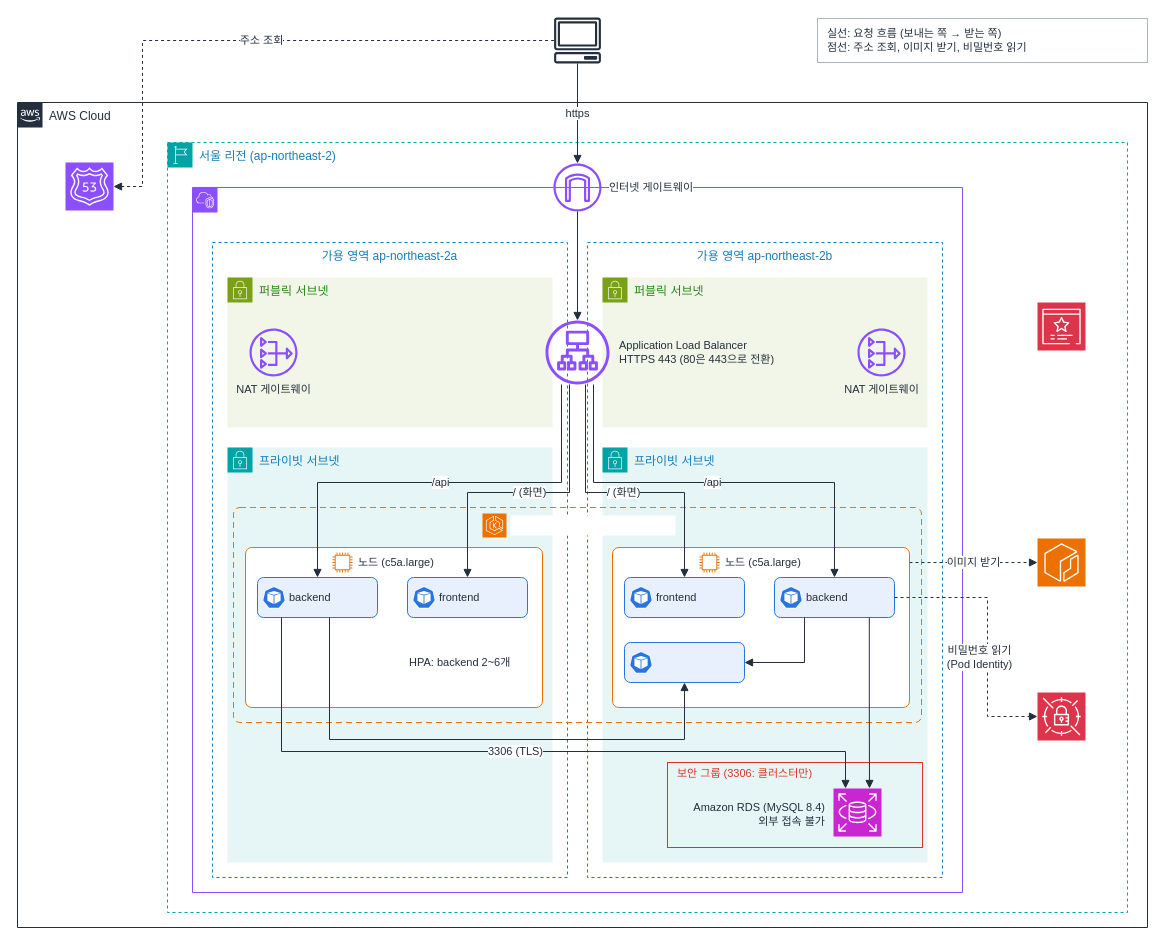
This 1165x945 diagram has some shape labels left out. Each missing label, with the box of its shape:
ACM 인증서 (ALB 리스너에 연결): (1036, 302, 1086, 350)
Amazon ECR 이미지 3.0, 3.1: (1036, 538, 1086, 586)
EKS ticketing-eks (Auto Mode): (510, 515, 675, 535)
redis: (624, 642, 744, 682)
Route 53 nyannyanpunch.cloud: (64, 162, 114, 210)
Secrets Manager backend 비밀번호: (1036, 692, 1086, 740)
VPC 192.168.0.0/16: (192, 186, 962, 892)
브라우저: (553, 17, 601, 63)
